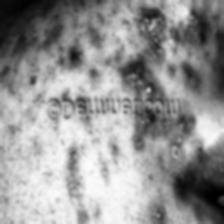Non-Cancerous Skin Condition: (124, 0, 216, 92), (25, 0, 96, 88), (34, 152, 106, 224), (141, 125, 191, 224)
